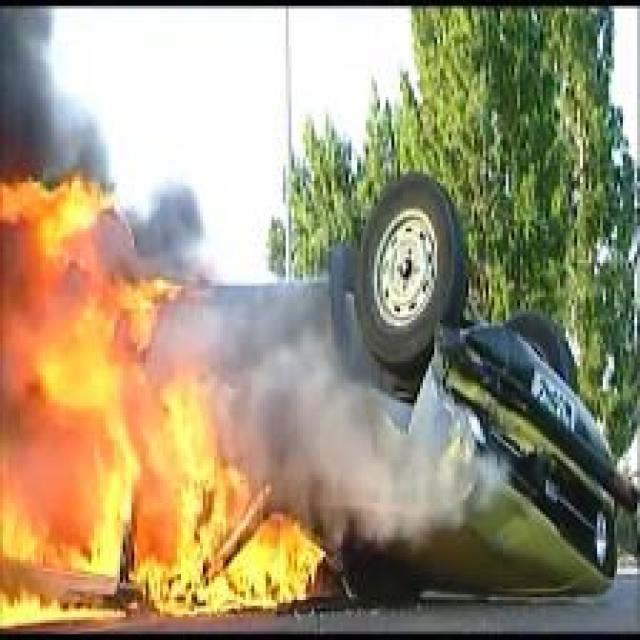Fire: (0, 173, 326, 630)
